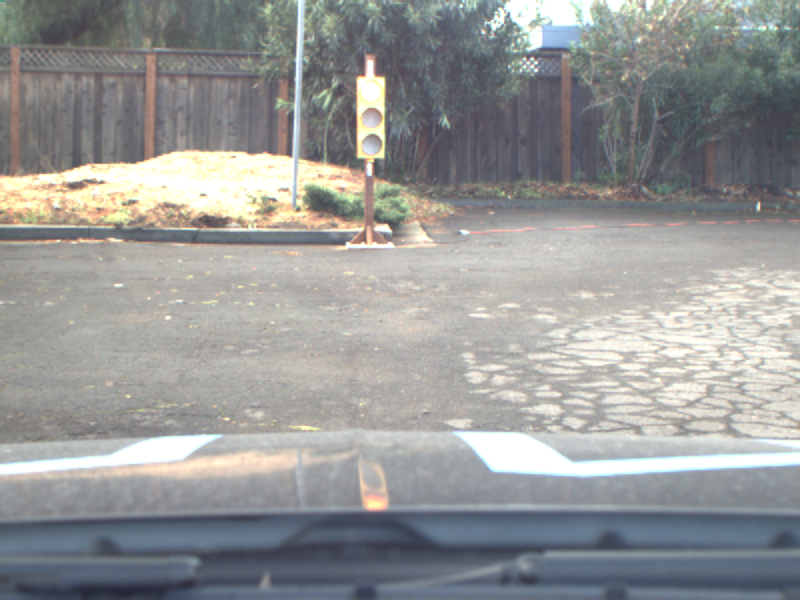Red: (355, 76, 387, 160)
